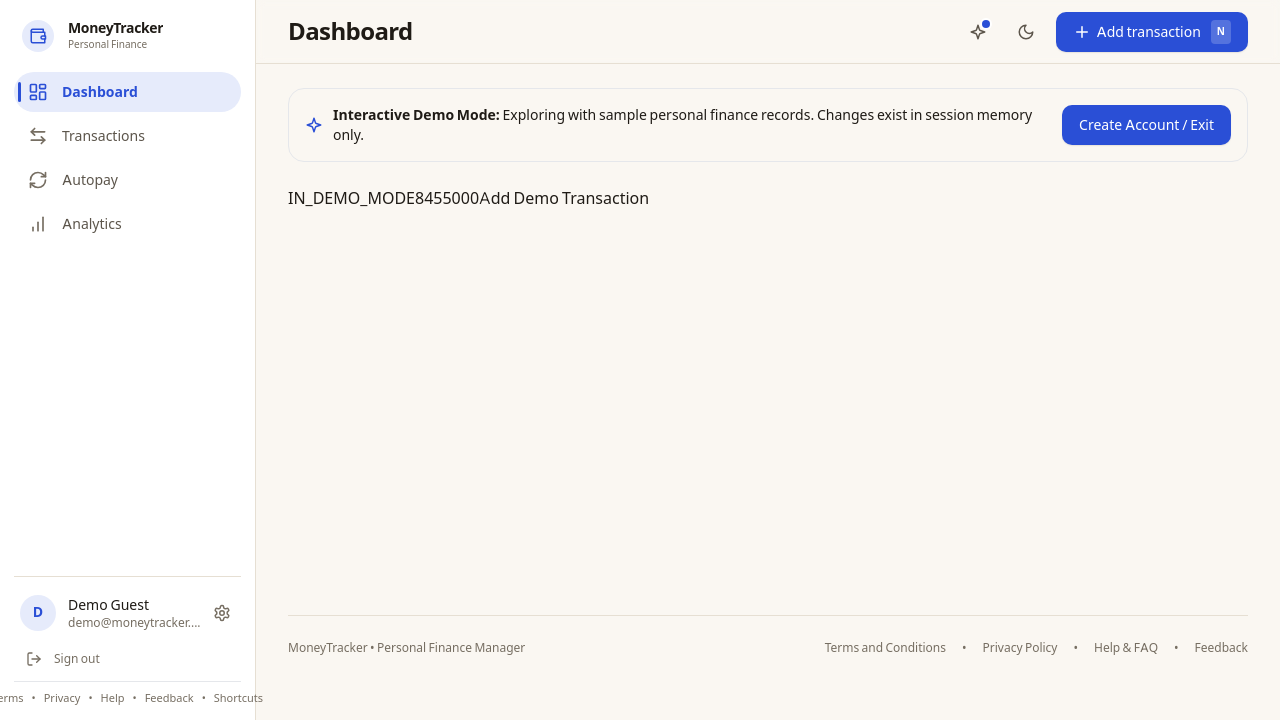
Test: Interactive Public Demo Mode (WEB-14) › clicking Create Account / Exit in the demo banner exits demo mode back to unauthenticated state
Earlier steps of the test are not shown.
Step 1. Click the button "Create Account / Exit" → click(1147, 125), box [1062,105,1231,145]
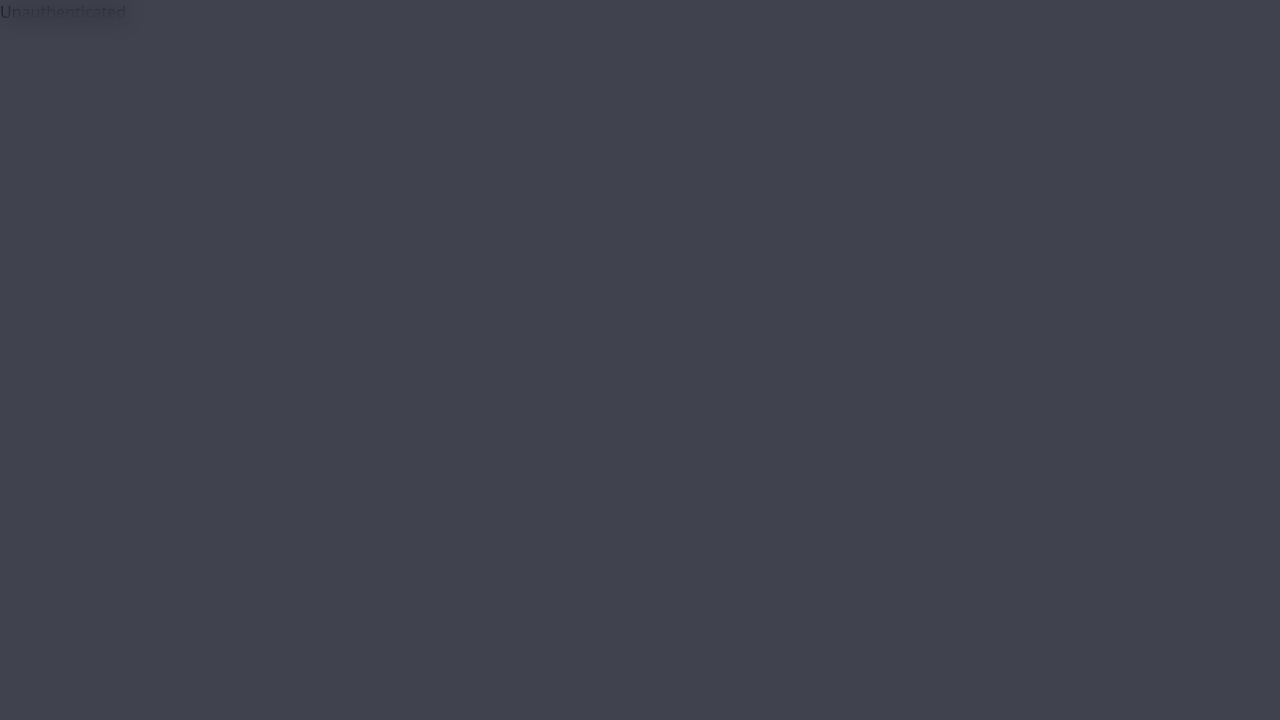
Now the text "Unauthenticated" is shown, box [0,2,126,22]
